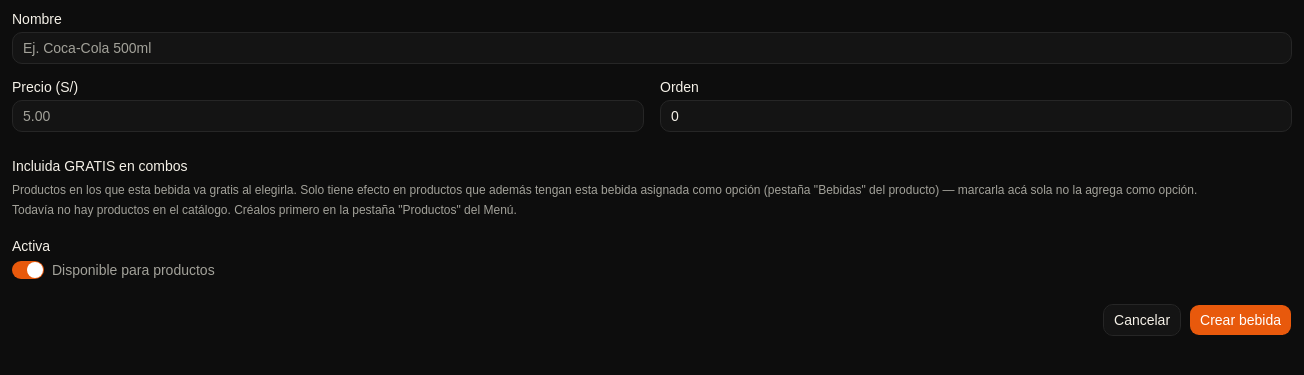
Test case: BeverageForm › rechaza más de 2 decimales
Type "Agua con gas" into the field labelled "Nombre" at (652, 48), box [12,32,1292,64]
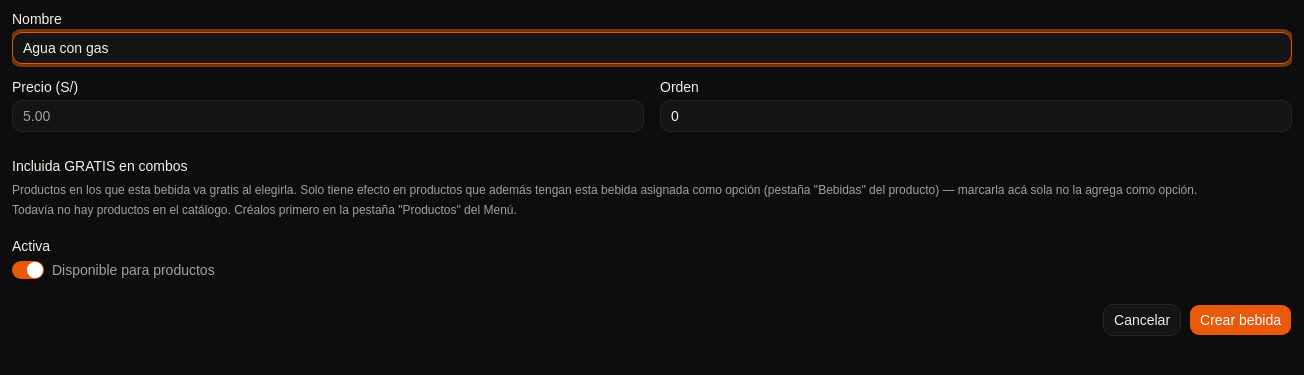
Type "5.999" into the number field labelled "Precio (S/)" at (328, 116), box [12,100,644,132]
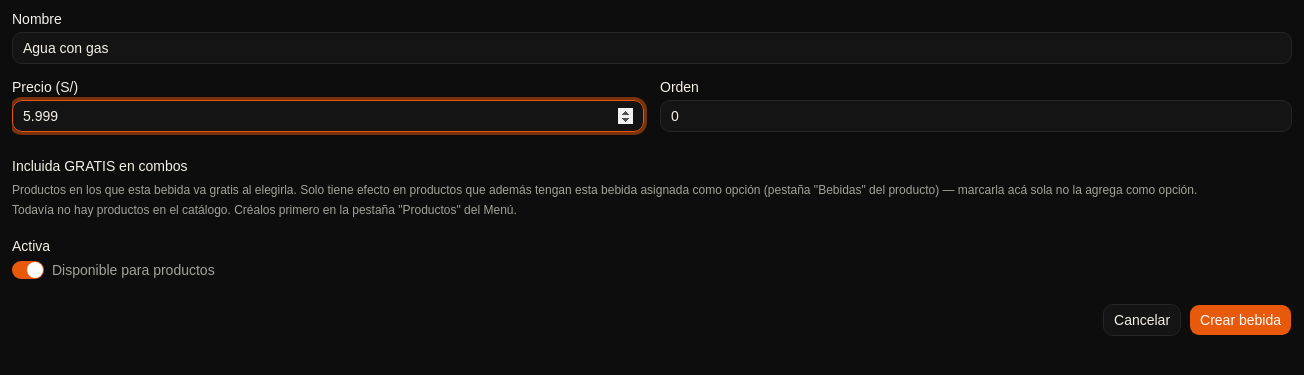
Click the button "Crear bebida" at (1241, 320), box [1189,304,1292,336]
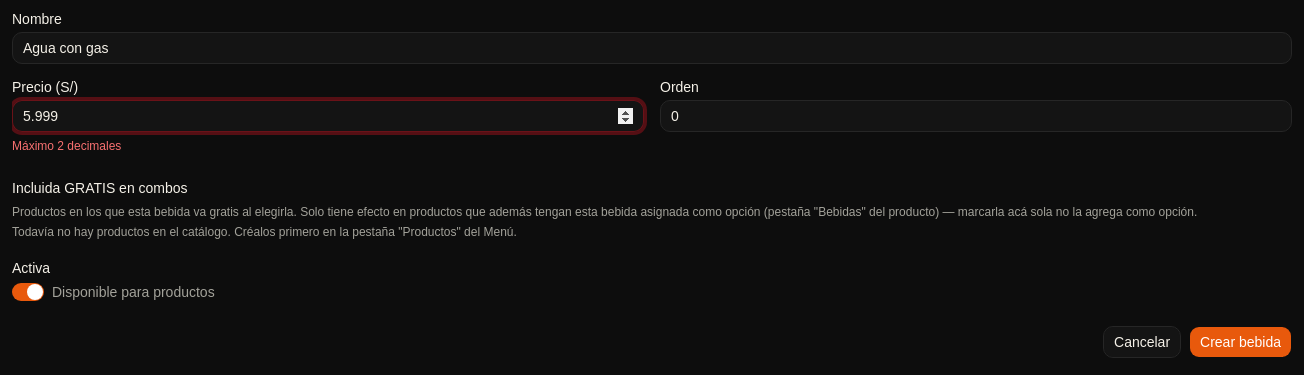
Result: the text "Máximo 2 decimales" is shown at [12,139,121,153]
